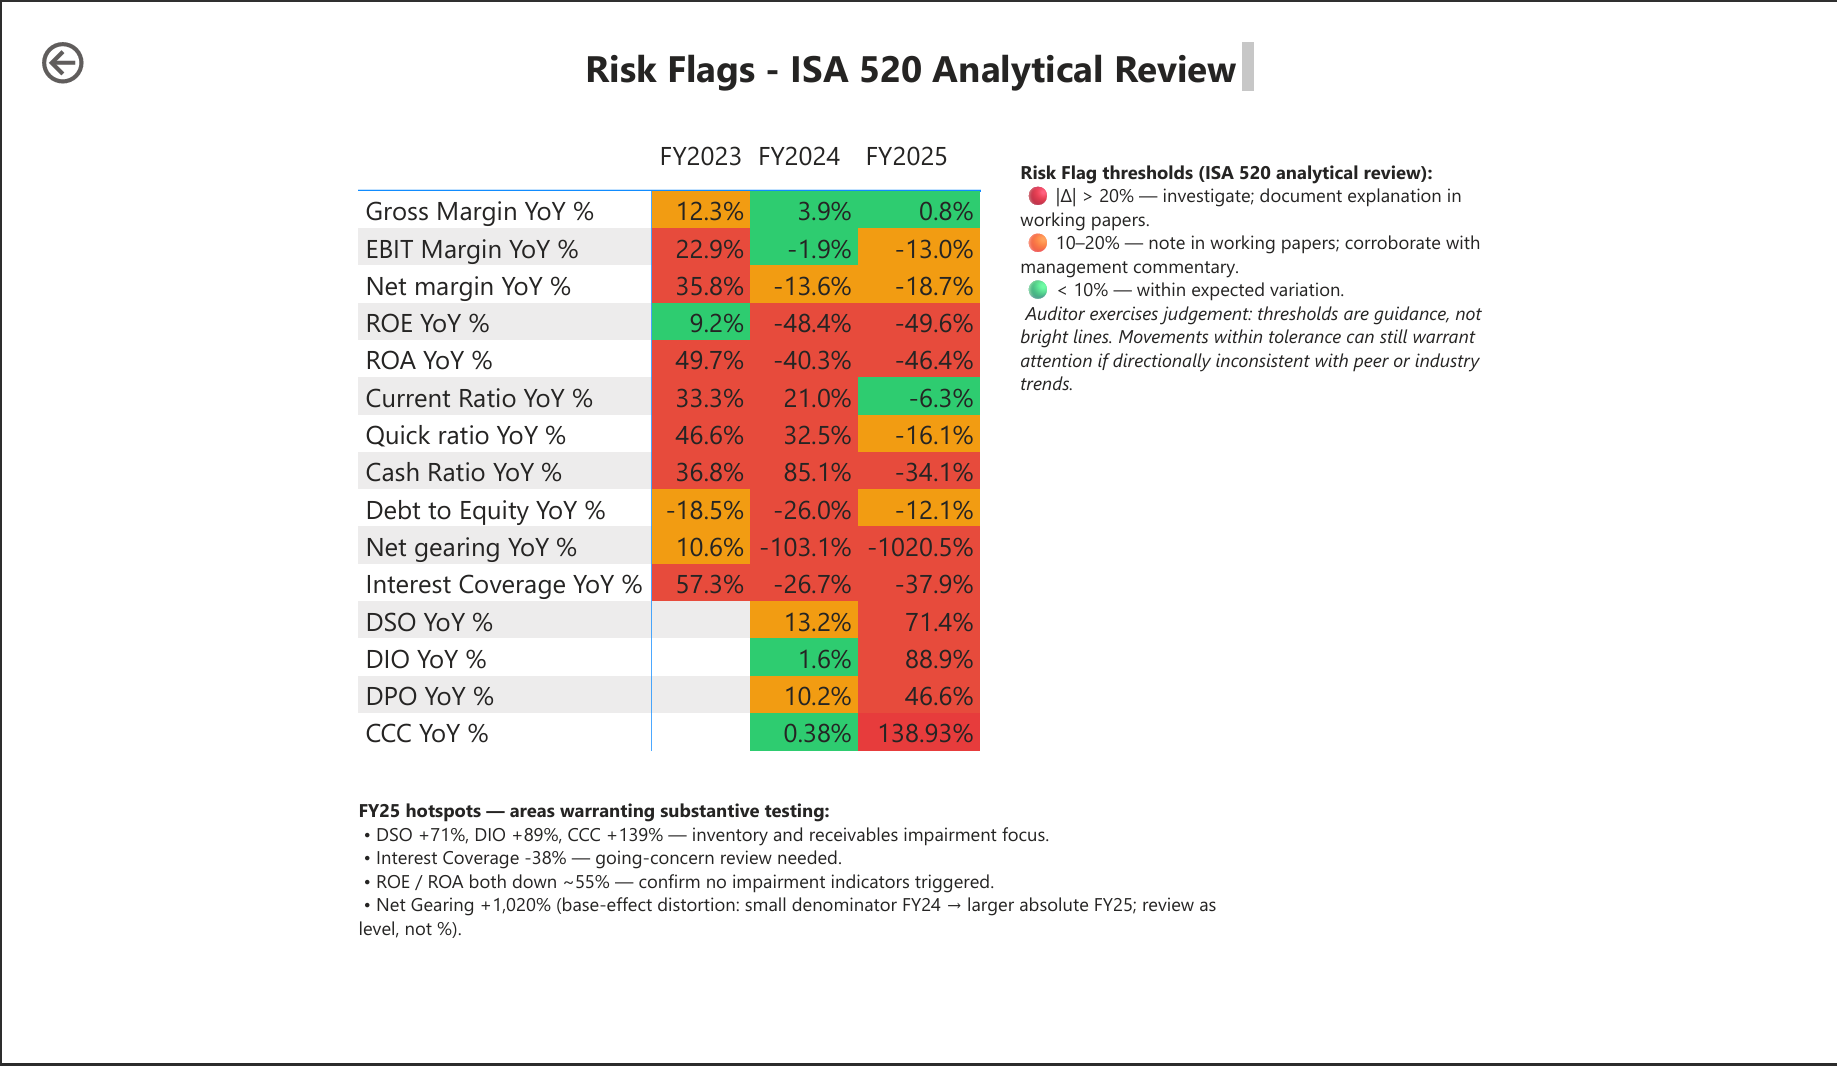

This screenshot's page, from the dashboard's own definition file:
{"tool":"powerbi","page":{"name":"Risk Flags","canvas":[1280,720],"ordinal":3},"visuals":[{"type":"textbox","box":[393.2,0,493.5,53.2],"z":0},{"type":"pivotTable","fields":{"Columns":["Period.Period"],"Values":["Raw Data.Gross Margin YoY% YoY %","Raw Data.EBIT Margin YoY %","Raw Data.Net margin YoY %","Raw Data.ROE YoY %","Raw Data.ROA YoY %","Raw Data.Current Ratio YoY %","Raw Data.Quick ratio YoY %","Raw Data.Cash Ratio YoY %","Raw Data.Debt to Equity YoY %","Raw Data.Net gearing YoY %","Raw Data.Interest Coverage YoY %","Raw Data.DSO YoY %"]},"box":[229,68.2,475.8,471],"z":0,"group":"g1"},{"type":"actionButton","box":[0,0,100,40],"z":1000},{"type":"textbox","box":[708.1,85.5,343.5,198.4],"z":1000,"group":"g1"},{"type":"group","id":"g1","title":"Group 1","box":[229,68.2,822.6,609.3],"z":2000},{"type":"textbox","box":[229.1,546.8,640.3,130.6],"z":2000,"group":"g1"}]}

Visuals, with their boxes on the page's 1280x720 design canvas (x1, y1, x2, y2). These are canvas units, not pixel positions in the 1837x1066 screenshot, which may show the page scaled, cropped or inside an application window:
textbox: detection(393, 0, 887, 53)
pivotTable - Period.Period x Raw Data.Gross Margin YoY% YoY %: detection(229, 68, 705, 539)
actionButton: detection(0, 0, 100, 40)
textbox: detection(708, 86, 1052, 284)
"Group 1" group: detection(229, 68, 1052, 678)
textbox: detection(229, 547, 869, 677)
